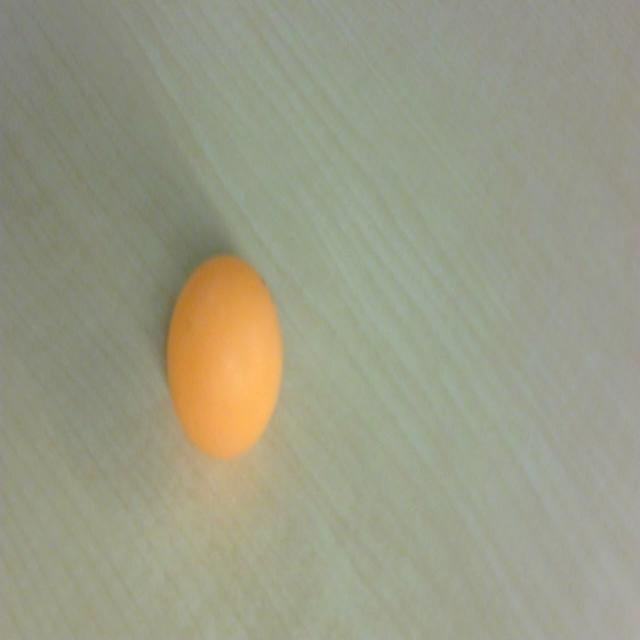ball: (164, 249, 284, 463)
